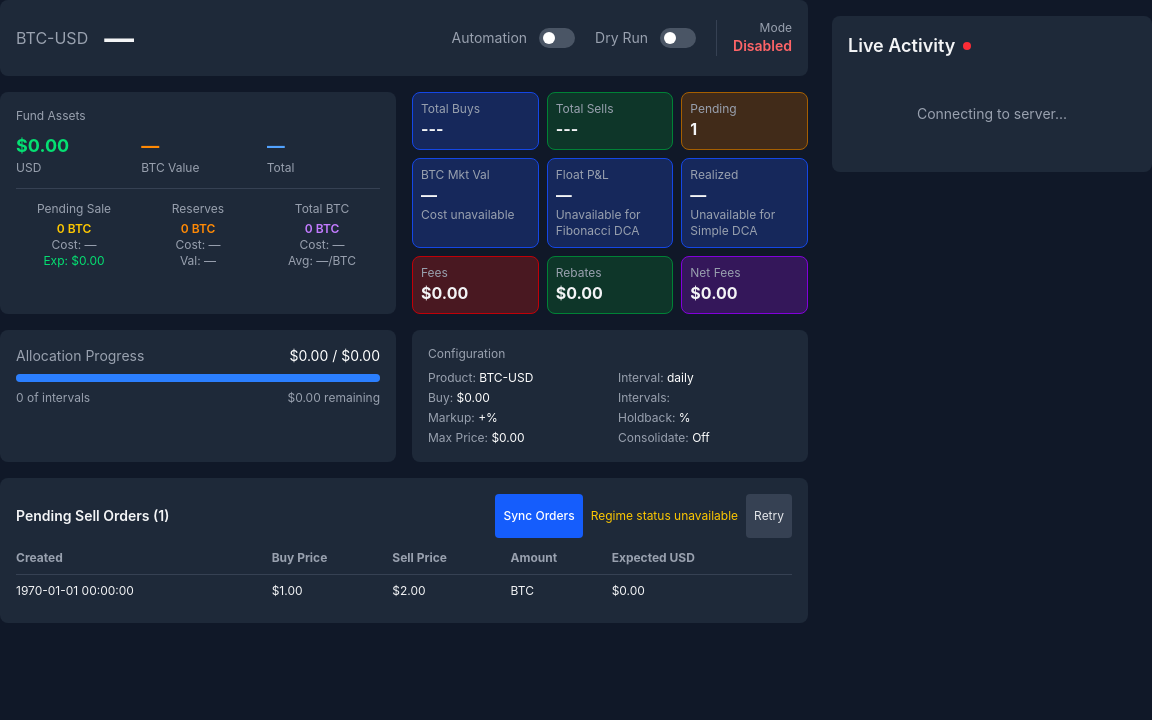
Test: dca dashboard says regime status is unavailable, keeps Export hidden and recovers on Retry
expect the text "Regime status unavailable Retry" is shown: met, box [591,494,792,538]
expect the button "Export to Regime" is not shown: met
What coordinates should you click on to do the following:
click the button "Retry"
I would click on:
 (769, 516)
Its box is [746,494,792,538].
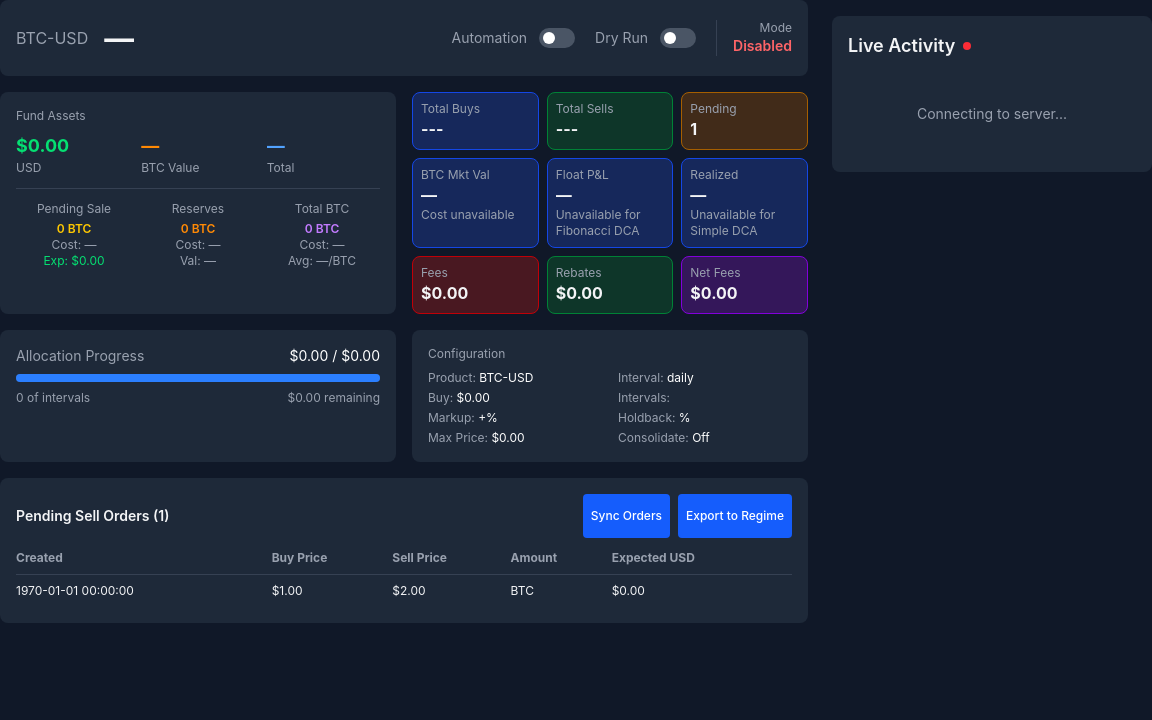
expect the button "Export to Regime" is shown: met, box [678,494,792,538]
expect the text "Regime status unavailable" is gone: met
